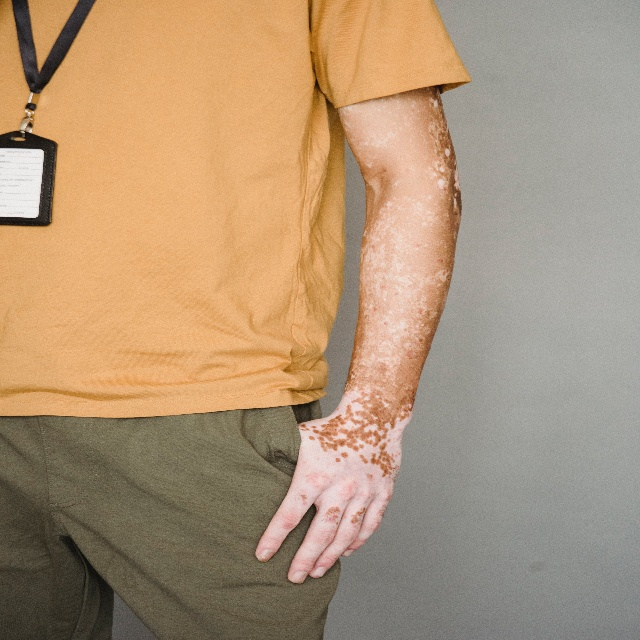Sin_guantes: (252, 412, 406, 582)
